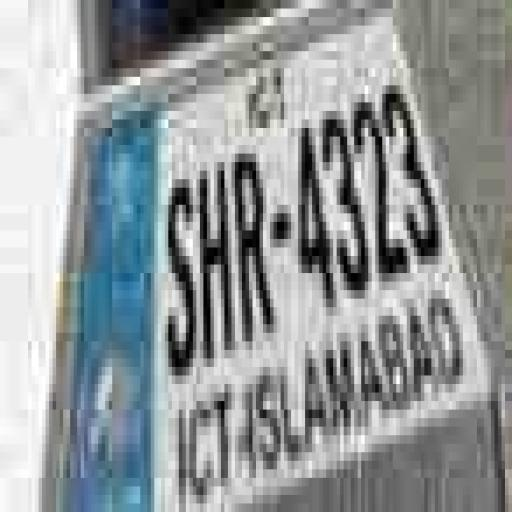2: (358, 98, 404, 292)
3: (382, 82, 443, 252), (322, 114, 367, 312)
4: (294, 128, 328, 322)
H: (196, 158, 234, 366)
R: (233, 144, 272, 348)
S: (164, 178, 194, 388)
